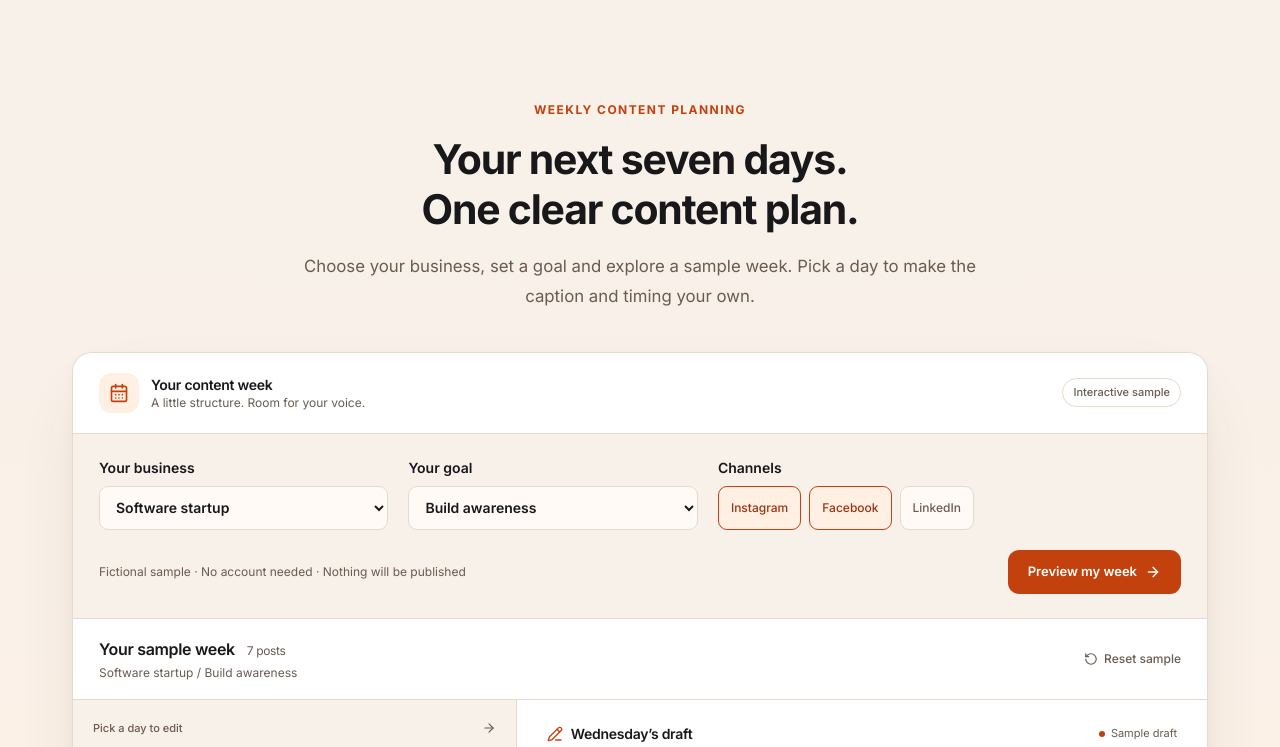
Weekly planner behavior › distinguishes pending settings from the applied sample
Select "IT consultancy" in the dropdown labelled "Your business": point(244, 508) [99,486,388,530]
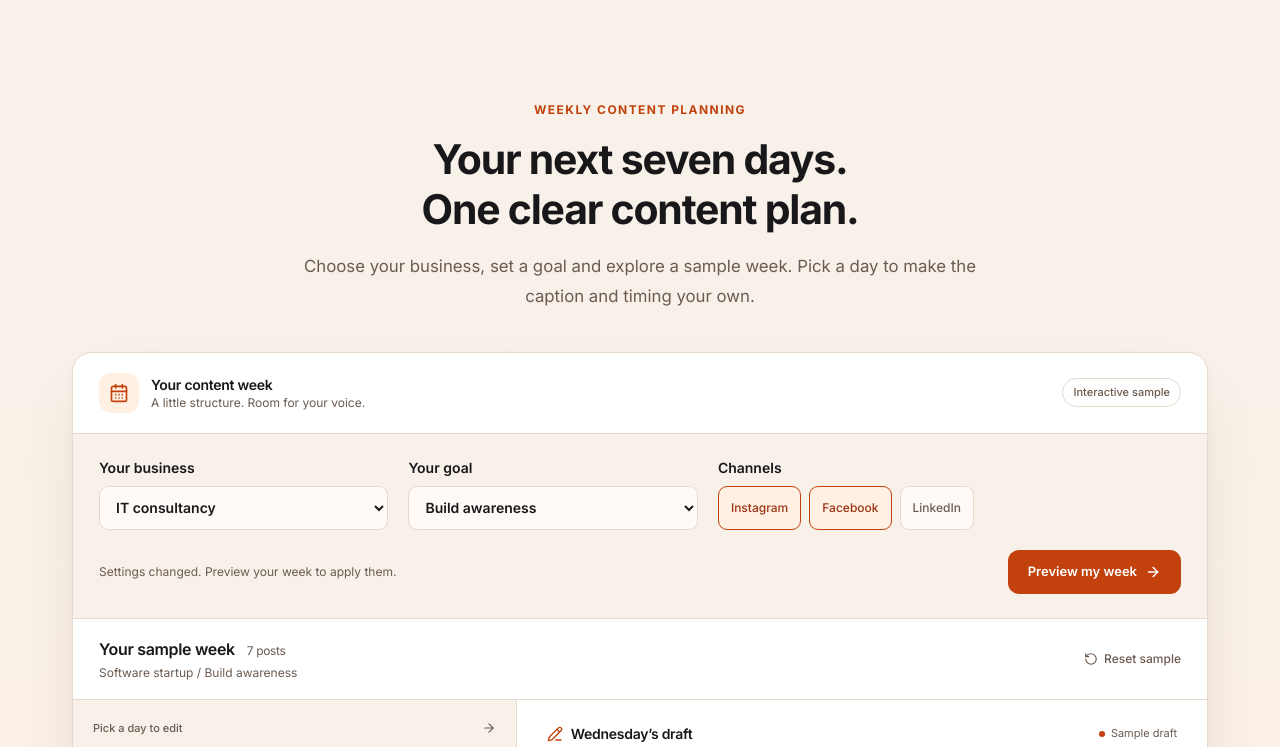
Result: the text "Settings changed. Preview your week to apply them." is shown at [99,564,396,580]
Click the button "Preview my week": point(1094, 572) [1008,550,1181,594]
(page scrolled)
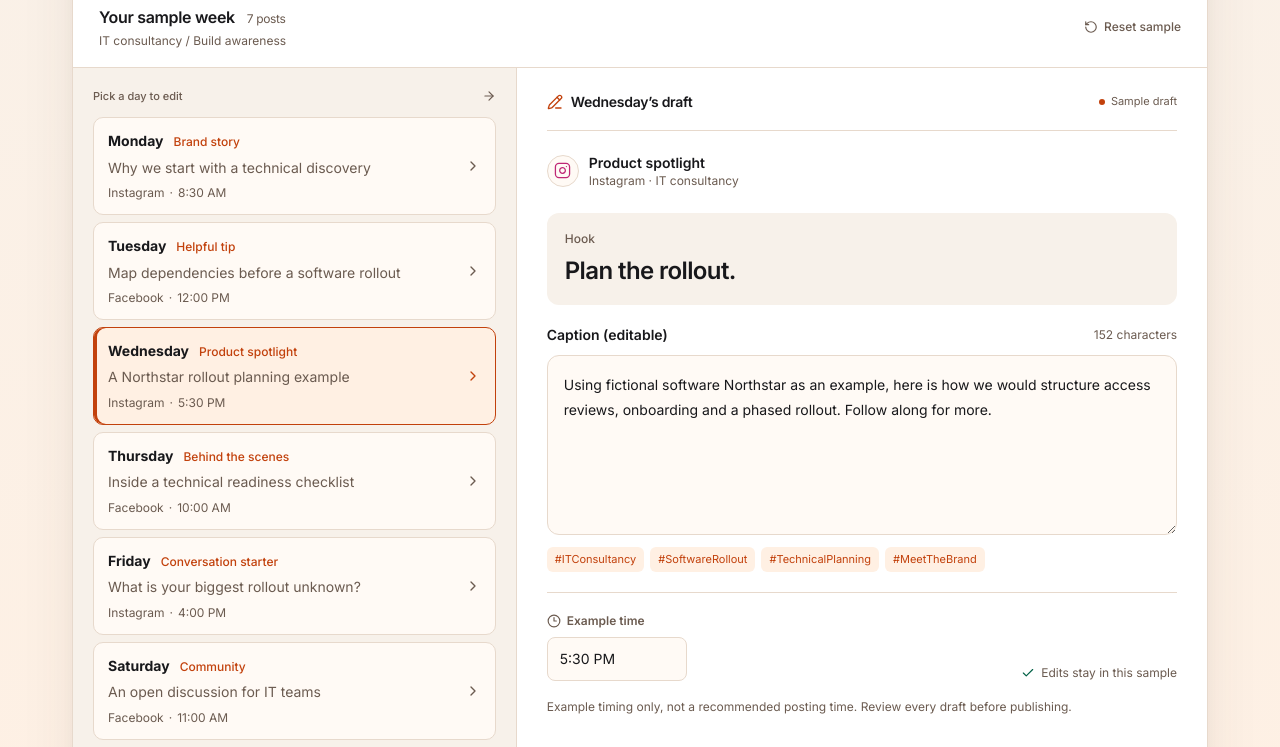
Result: the text "Settings changed. Preview your week to apply them." is gone
